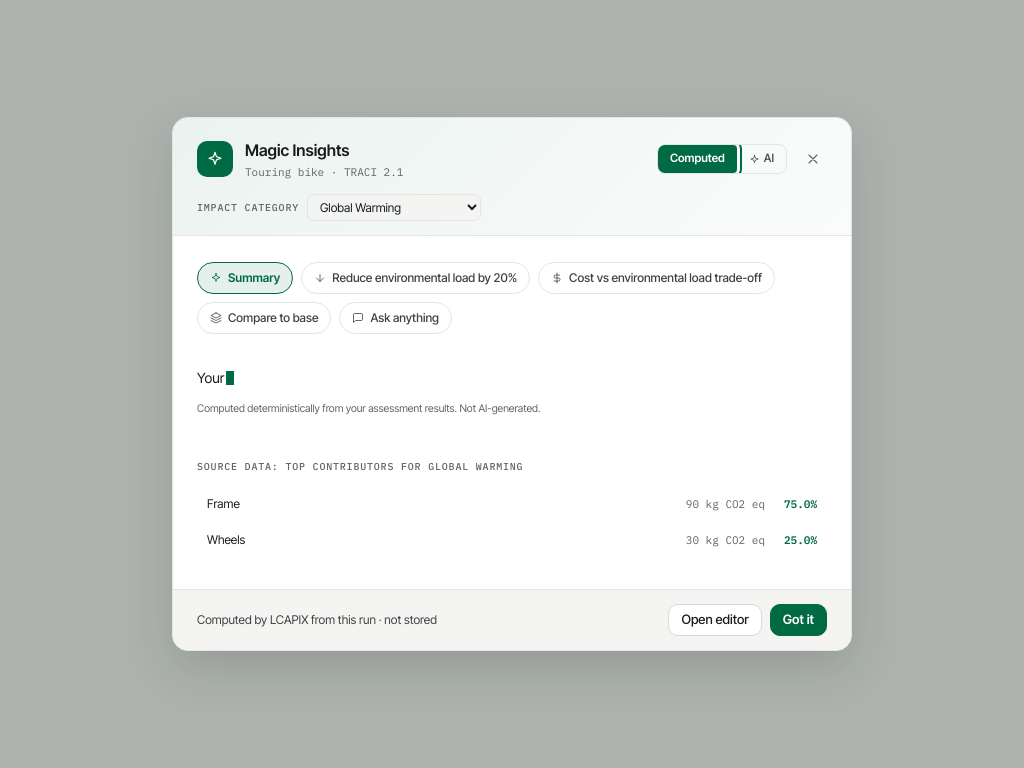
Scenario: <MagicInsightsModal> AI limits › says the hour's insights are used up on a 429 and shows the computed summary
Step 1. Click the button "AI" → click(761, 159), box [737,146,786,173]
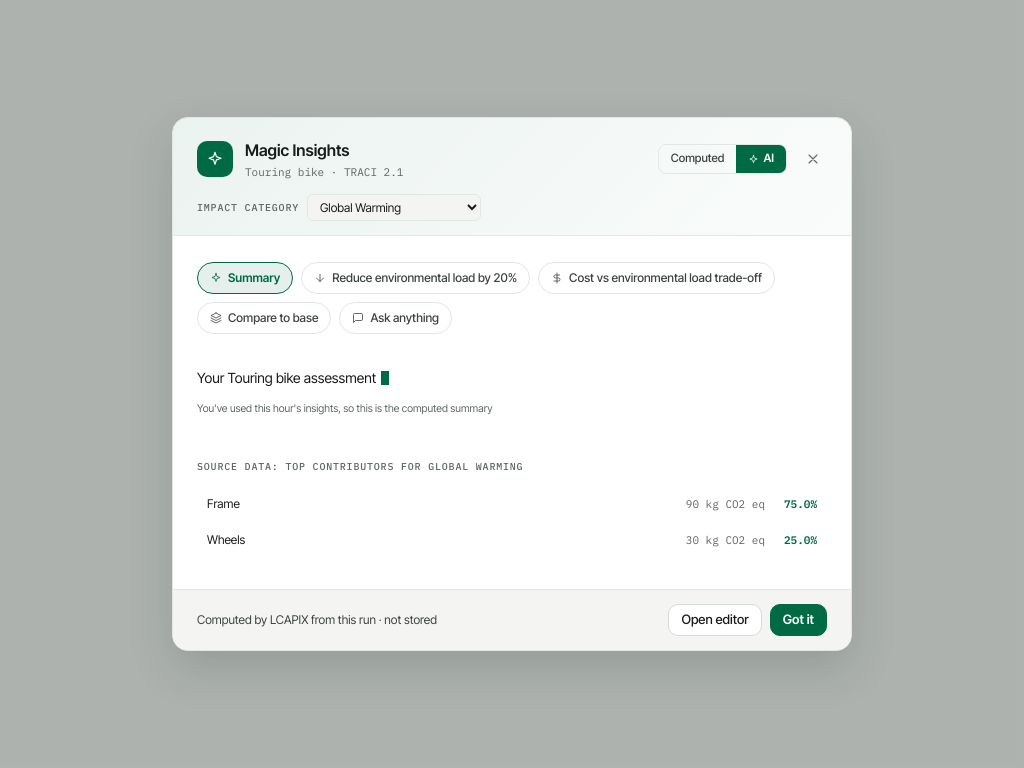
Expected: the text "Frame" is shown, [207,496,240,511]
Result: the text "You've used this hour's insights, so this is the computed summary" is shown at [197,402,493,415]
